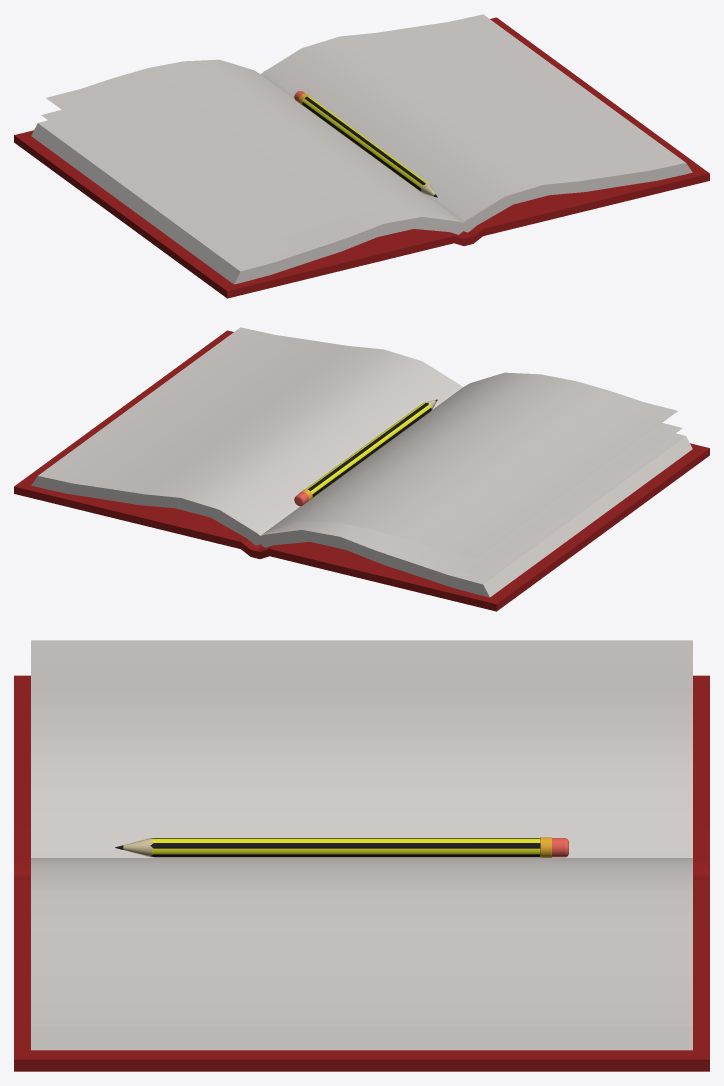
Rendered from Book And Pencil No light.fbx.
3 renders of one model, top to bottom at view 1: azimuth 30°, elevation 25°; view 2: azimuth 150°, elevation 25°; view 3: azimuth 270°, elevation 25°, orthographic. The views are drawn at different scales.
Visible parts, largest first — view 1: polySurface3, polySurface6, polySurface1, polySurface7, pCylinder1; view 2: polySurface3, polySurface6, polySurface1, polySurface7, pCylinder1; view 3: polySurface6, polySurface3, polySurface1, pCylinder1.
Part boxes in pixels (x1,y1,x2,y2): polySurface3: (31,14,692,284); polySurface6: (46,59,461,246); polySurface1: (14,17,709,298); polySurface7: (41,110,458,263); pCylinder1: (294,91,437,197); polySurface3: (31,327,692,597); polySurface6: (262,372,677,559); polySurface1: (14,330,709,611); polySurface7: (265,423,682,576); pCylinder1: (294,399,437,506); polySurface6: (31,640,692,857); polySurface3: (31,858,692,1050); polySurface1: (14,675,709,1071); pCylinder1: (115,837,568,857).
Bounding box in the file's own units: 5.4 × 0.5576 × 4.14.
